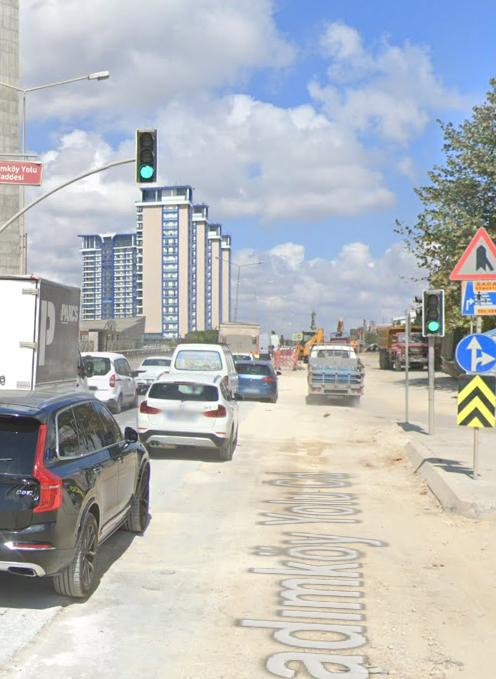greenlight: (136, 128, 156, 179), (426, 292, 444, 333)
